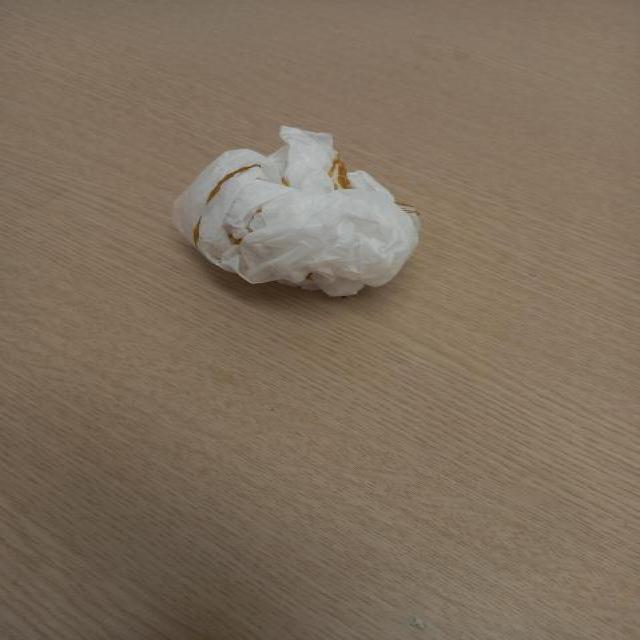plastic bag: (169, 128, 424, 306)
